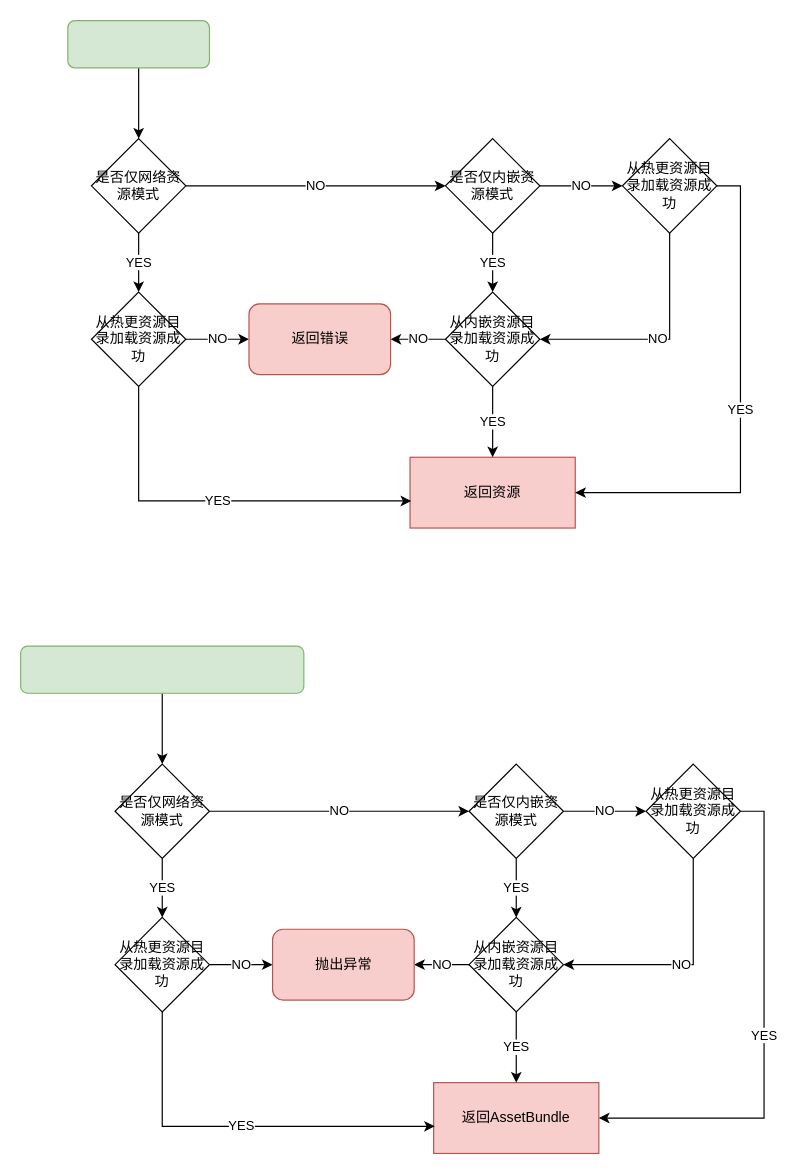
Some shapes in this 798 by 1174 pixel diagram are drawn without their labels. The centre of each missing label's shape, as x and y in pixels:
"HotFileMgr.Load" belongs at point 138,43.
"ResMgr.LoadAssetBundle" belongs at point 161,669.
